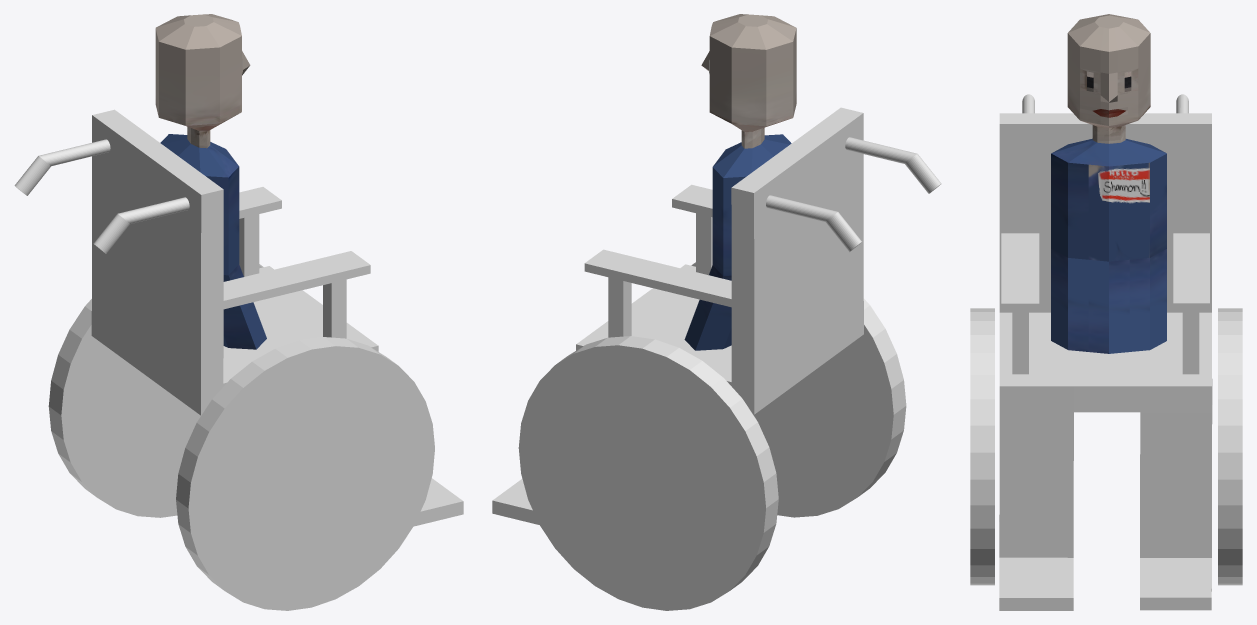
File: manager.fbx
3 views of the same model, side by side, from view 1: azimuth 30°, elevation 25°; view 2: azimuth 150°, elevation 25°; view 3: azimuth 270°, elevation 25° (orthographic). The views are drawn at different scales.
Visible parts, largest first — view 1: Wheel, Base, Wheel.001, Cylinder, Handle, Handle.001; view 2: Wheel.001, Base, Wheel, Cylinder, Handle, Handle.001; view 3: Base, Cylinder, Wheel, Wheel.001.
Part boxes in pixels (bbox=[...]): Wheel: bbox=[176, 337, 434, 610]; Base: bbox=[91, 109, 463, 526]; Wheel.001: bbox=[48, 264, 263, 517]; Cylinder: bbox=[155, 14, 266, 349]; Handle: bbox=[93, 197, 189, 253]; Handle.001: bbox=[14, 139, 110, 195]; Wheel.001: bbox=[518, 336, 778, 610]; Base: bbox=[492, 107, 863, 524]; Wheel: bbox=[691, 262, 906, 517]; Cylinder: bbox=[684, 14, 796, 350]; Handle: bbox=[845, 137, 941, 193]; Handle.001: bbox=[766, 195, 861, 251]; Base: bbox=[999, 113, 1212, 610]; Cylinder: bbox=[1051, 14, 1166, 353]; Wheel: bbox=[970, 308, 994, 585]; Wheel.001: bbox=[1218, 308, 1242, 585].
Bounding box in the file's own units: 2778 × 4087 × 1900.
